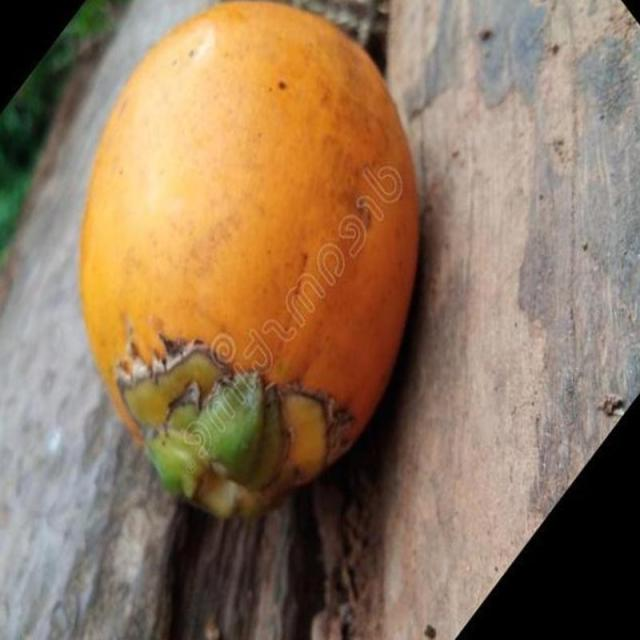good: (76, 2, 421, 523)
